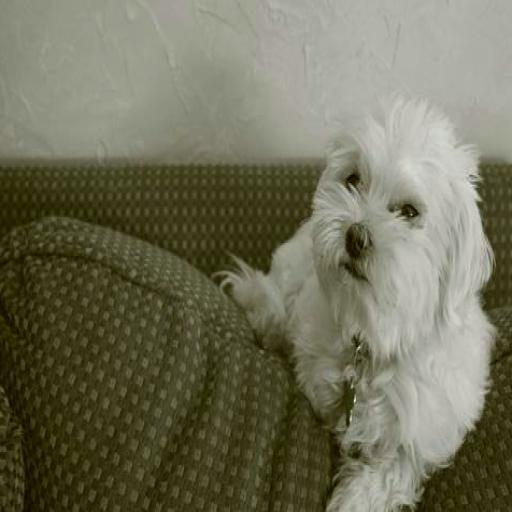dog_face: (306, 105, 490, 336)
